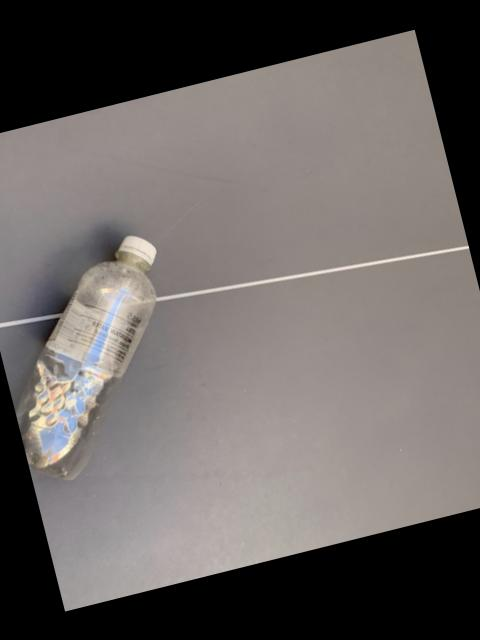plastic: (17, 236, 156, 480)
